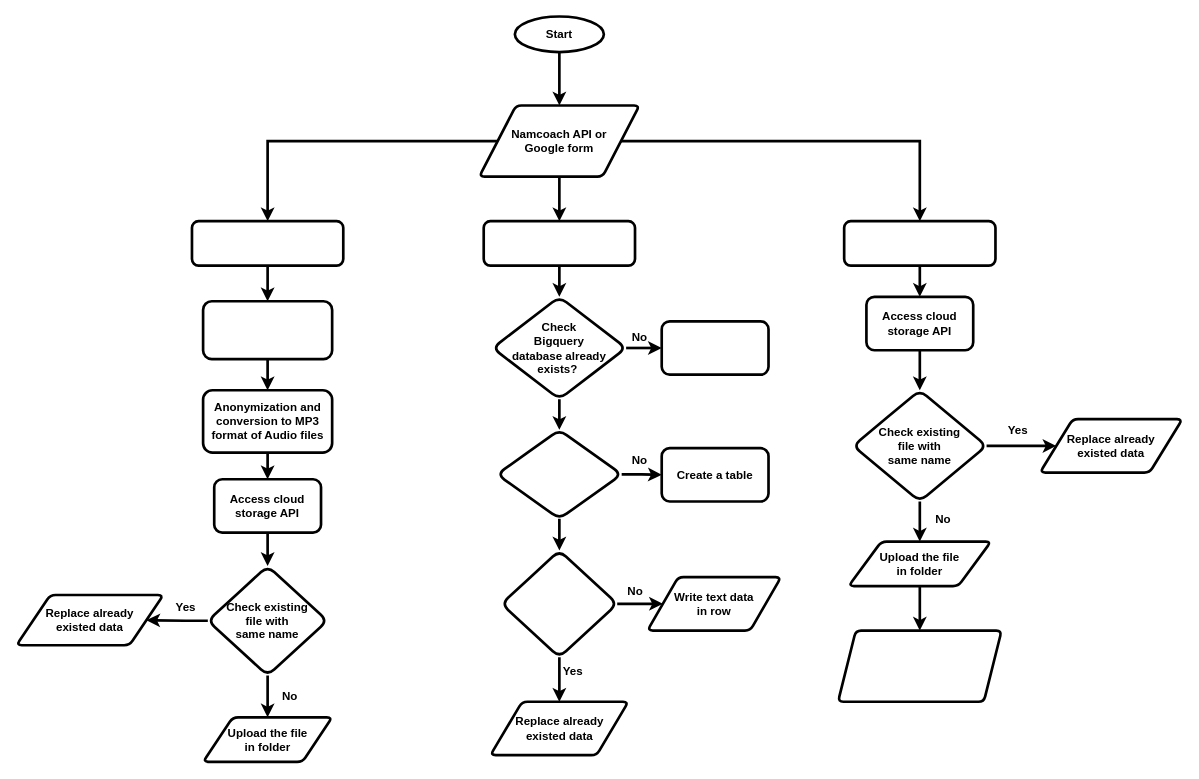
The diagram is 1199 pixels wide and 779 high, and some of its shapes have lost their labels. Here are the shapes that lost their labels. From the top down, the box of each, then its label:
(190, 219, 344, 267): Get the Audio Files based on Student ID
(482, 219, 636, 267): Access Bigquery API
(842, 219, 996, 267): Based on Student ID Generate QR code
(201, 299, 333, 360): Normalization of audio file
(660, 320, 769, 376): Create a database
(495, 428, 623, 520): Check Bigquery table already exists?
(500, 549, 618, 658): Check Student ID data already exists?
(836, 629, 1002, 703): Send the QR code to students mentioned Email Address
